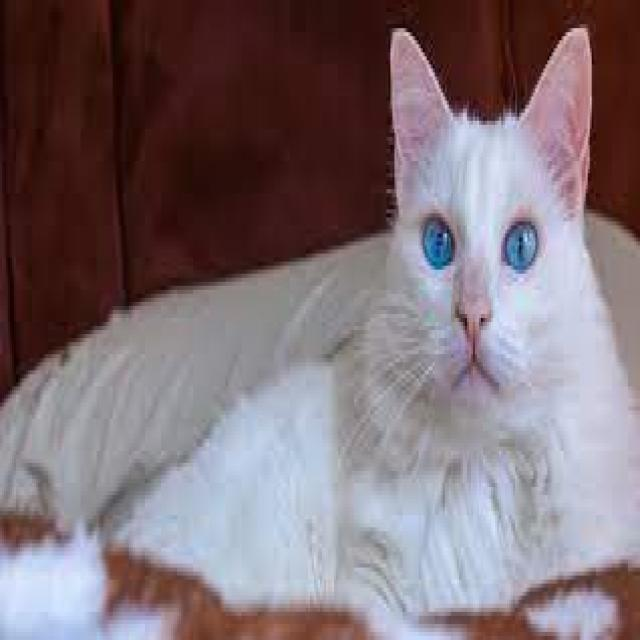Cat: (91, 22, 637, 624)
